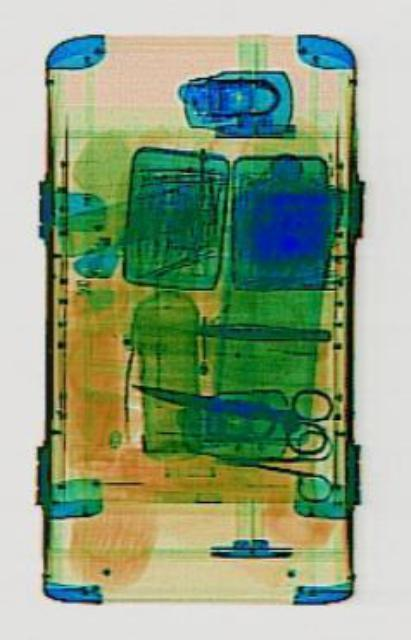Scissors: (125, 348, 332, 457), (222, 422, 330, 500)
